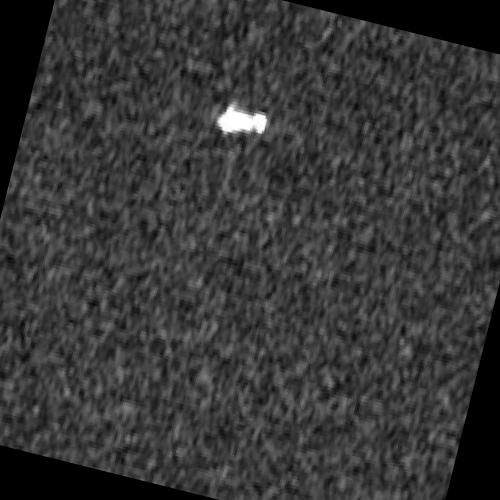ship: (218, 102, 268, 135)
